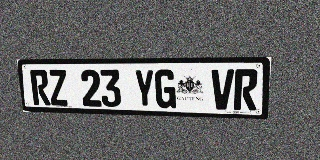2: (80, 70, 102, 107)
3: (100, 69, 121, 107)
G: (155, 69, 176, 108)
R: (234, 69, 258, 110), (30, 70, 51, 105)
V: (211, 69, 234, 110)
Y: (134, 69, 155, 108)
Z: (48, 70, 69, 106)
